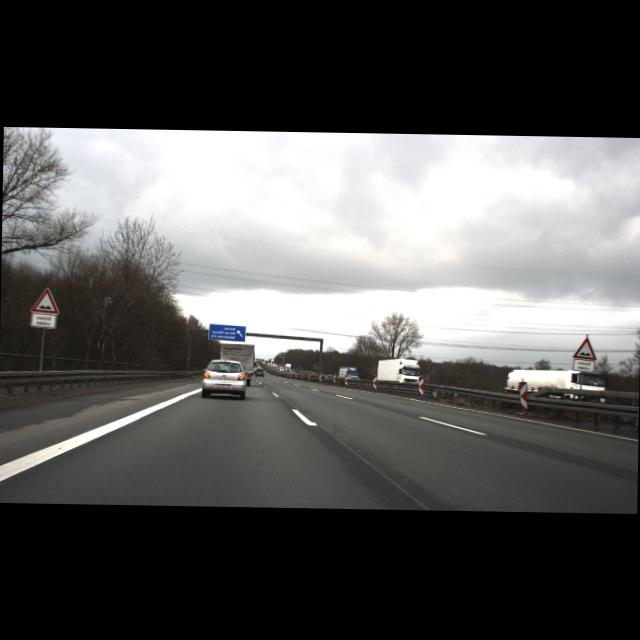danger: (31, 287, 60, 315), (572, 336, 598, 360)
